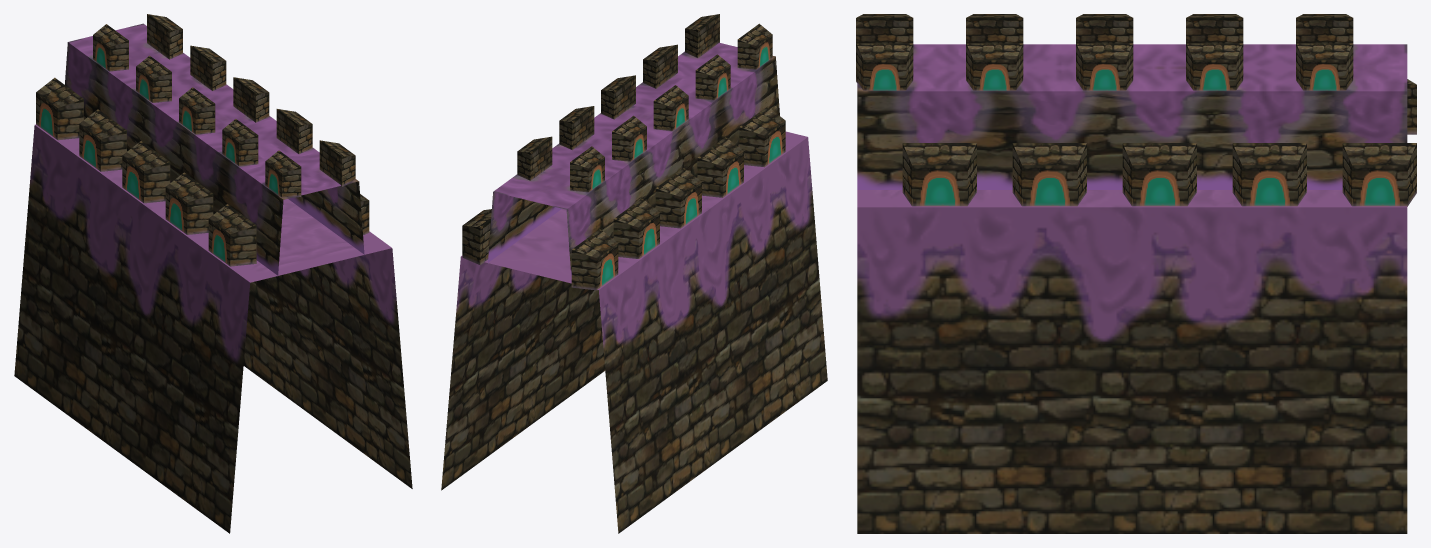
File: Wall2lvl.FBX
3 renders of one model, left to right at view 1: azimuth 30°, elevation 25°; view 2: azimuth 150°, elevation 25°; view 3: azimuth 270°, elevation 25°, orthographic. The views are drawn at different scales.
Visible parts, largest first — view 1: Wall3lvl; view 2: Wall3lvl; view 3: Wall3lvl.
Boxes of the visible parts, x1=… form: Wall3lvl: x1=14, y1=14, x2=412, y2=533; Wall3lvl: x1=441, y1=14, x2=827, y2=533; Wall3lvl: x1=856, y1=14, x2=1416, y2=533.
Bounding box in the file's own units: 4.89 × 8.96 × 10.2.
